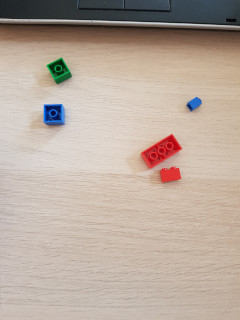1x1 blue: (186, 95, 202, 112)
1x2 red: (161, 166, 182, 184)
2x2 blue: (43, 104, 66, 126)
2x2 green: (46, 57, 73, 85)
2x4 red: (140, 133, 183, 168)
